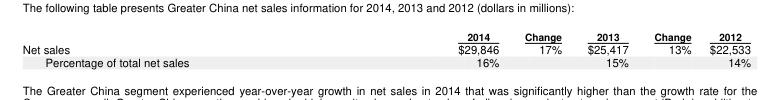table: (21, 28, 750, 69)
table column: (21, 28, 322, 69), (322, 28, 511, 69), (573, 28, 640, 69), (511, 28, 573, 69), (640, 28, 699, 69), (699, 28, 750, 69)
table column header: (21, 28, 750, 41)
table row: (21, 41, 750, 55), (21, 55, 750, 69), (21, 28, 750, 41)
